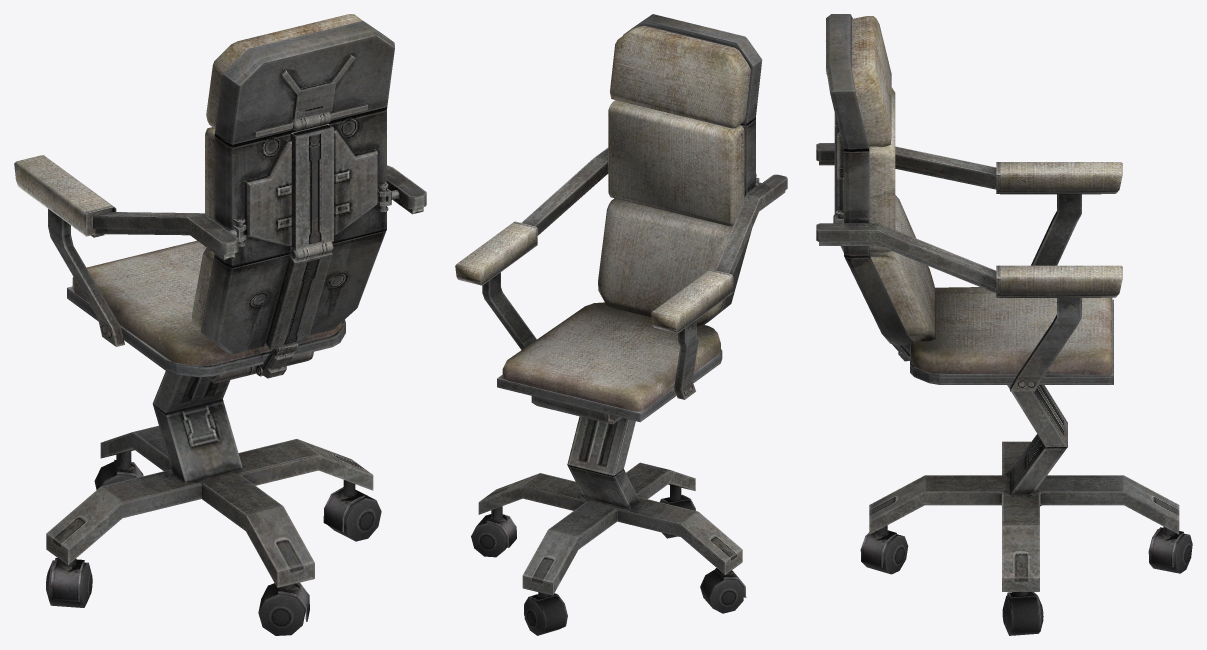
Rendered from chair_work_theta.DAE.
The picture shows the model from 3 angles, left to right: view 1: azimuth 30°, elevation 25°; view 2: azimuth 150°, elevation 25°; view 3: azimuth 270°, elevation 25°; orthographic projection. The views are drawn at different scales.
Visible parts, largest first — view 1: chair_work_theta, chair_work_theta_base; view 2: chair_work_theta, chair_work_theta_base; view 3: chair_work_theta, chair_work_theta_base.
Boxes of the visible parts, x1,y1,x2,y2 form: chair_work_theta: [14, 14, 426, 482]; chair_work_theta_base: [46, 425, 381, 635]; chair_work_theta: [455, 14, 787, 508]; chair_work_theta_base: [471, 462, 746, 635]; chair_work_theta: [816, 14, 1122, 494]; chair_work_theta_base: [860, 441, 1192, 635].
Bounding box in the file's own units: 0.9626 × 1.69 × 1.09.
